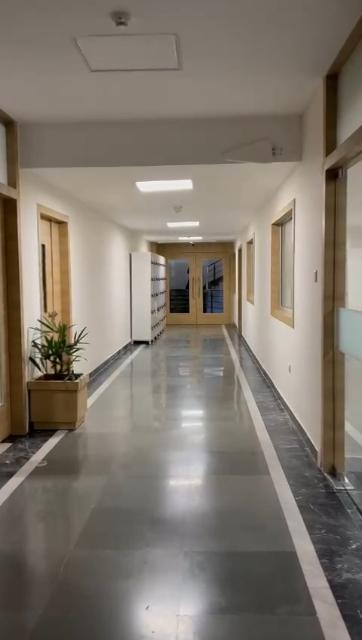door: (167, 240, 229, 326), (37, 206, 73, 330)
floor: (5, 326, 360, 640)
object: (20, 326, 90, 434)
wall: (290, 174, 324, 406), (76, 206, 130, 346), (252, 215, 272, 358)
